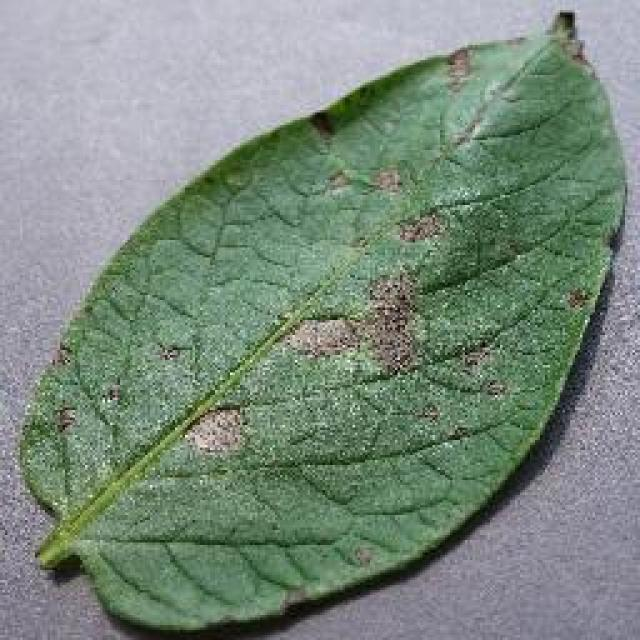early_blight: (12, 5, 632, 637)
